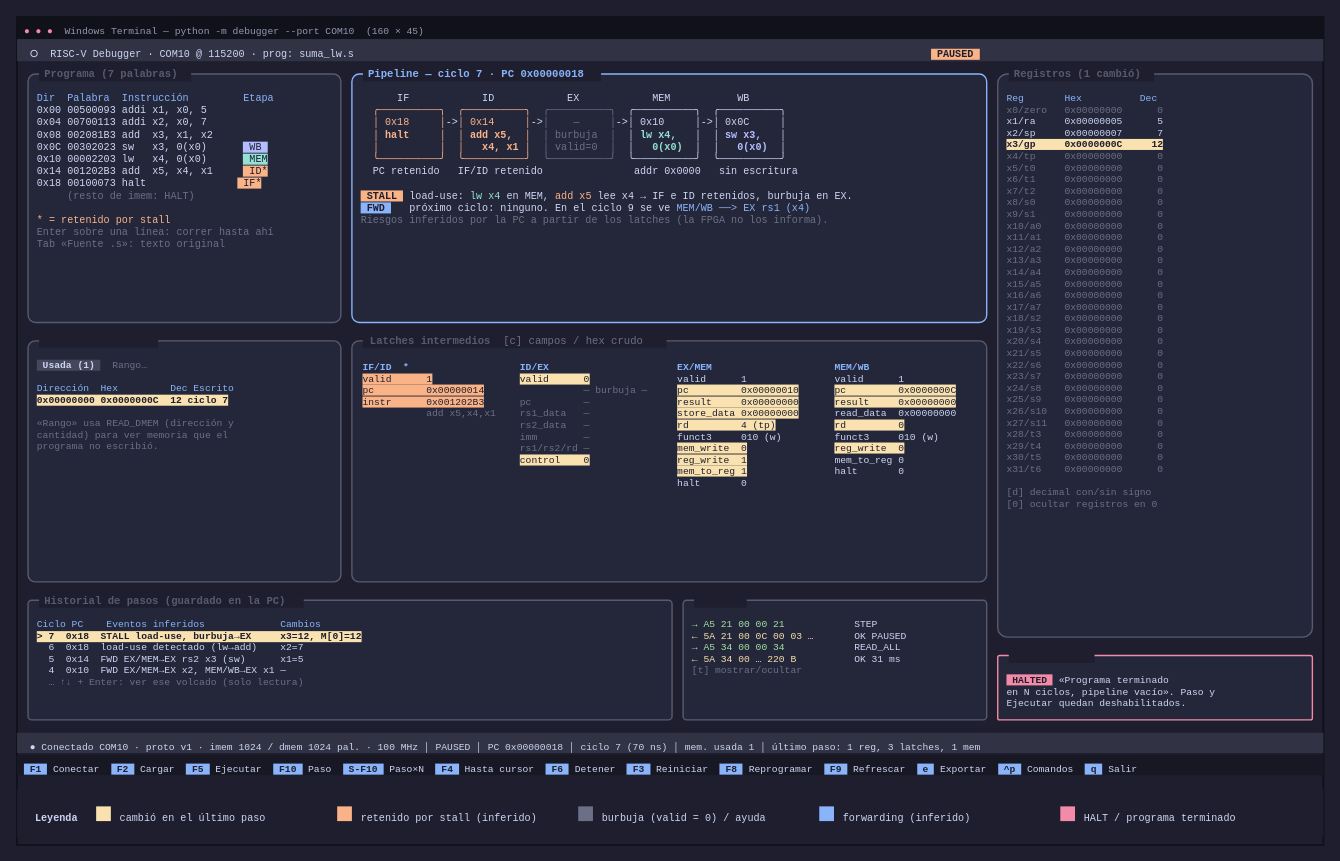
Image size: 1340x861. Some labels were removed from this diagram. The shapes that lost their labels are listed below. From the top down, each one's centre as x and y in pixels, then its label:
At pixel 98 340: "Memoria de datos".
At pixel 720 599: "Tramas".
At pixel 1051 655: "Al terminar".
